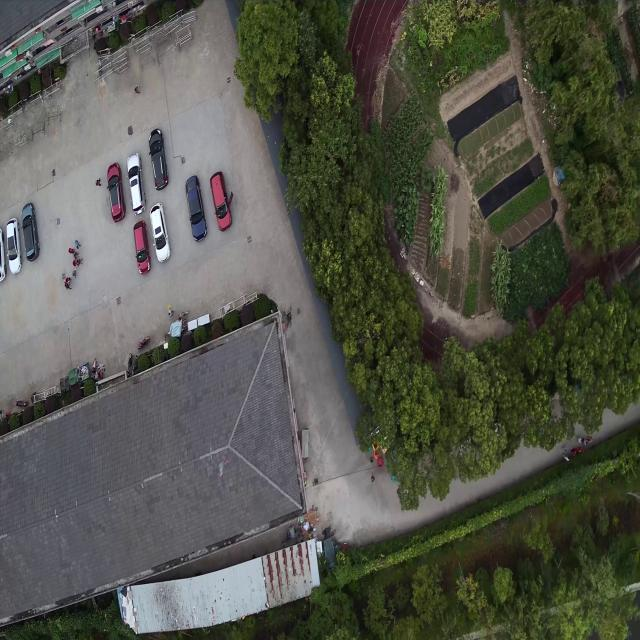UAV: (213, 459, 229, 482)
